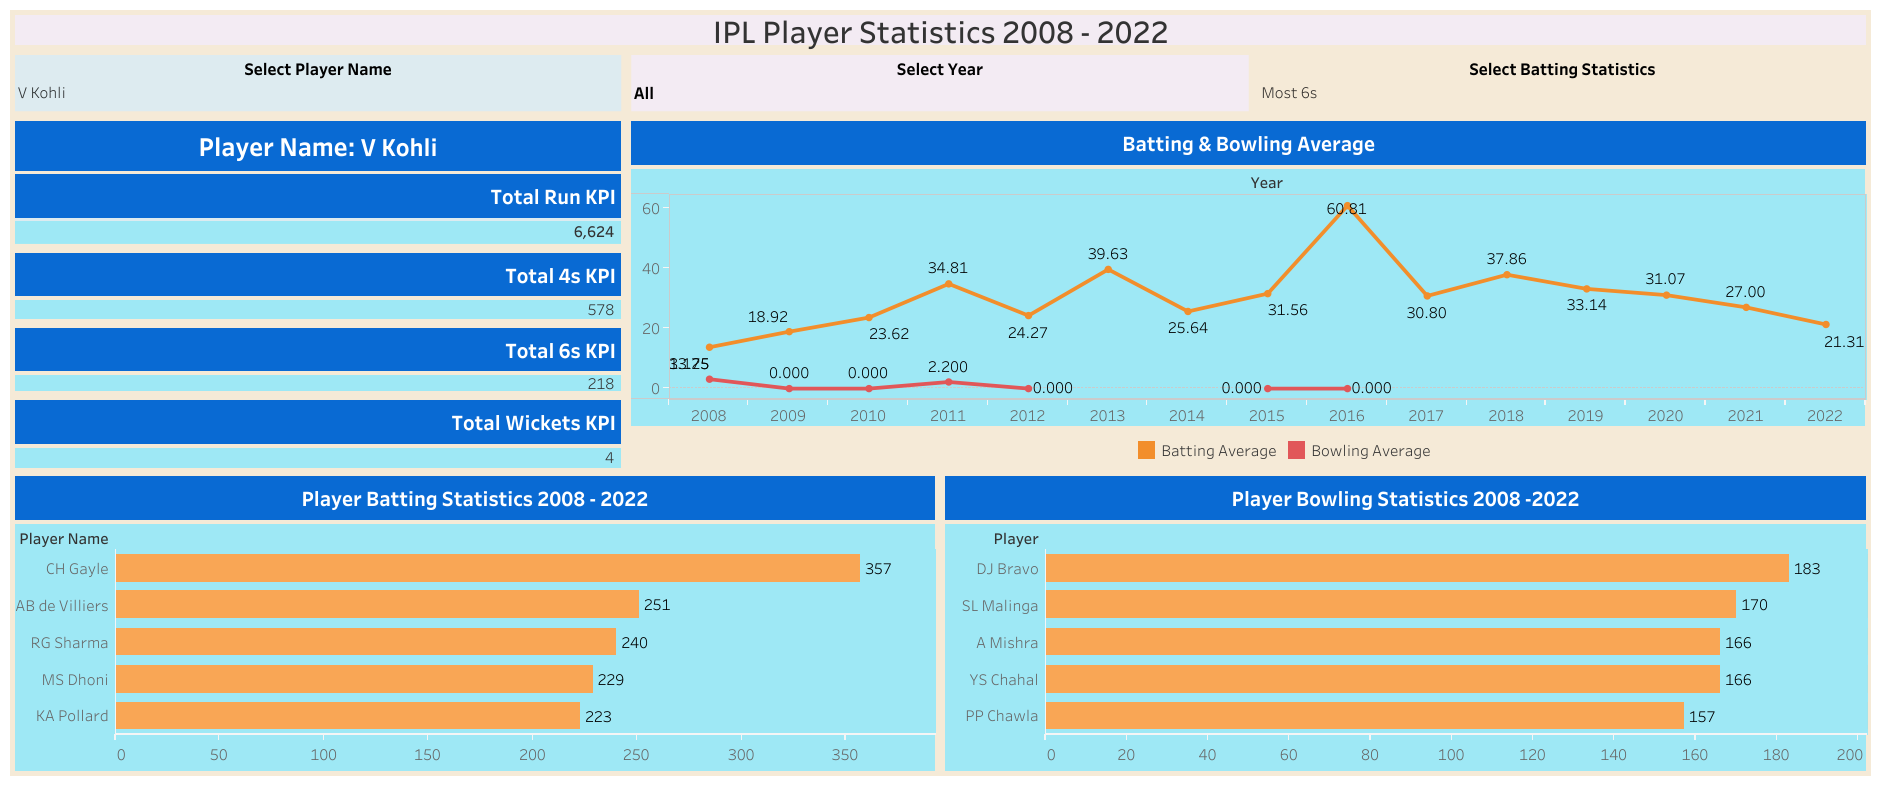

The page's visual inventory and layout, read from the dashboard file:
{"tool":"tableau","page":{"name":"IPL Player Statistics 2008 - 2022","canvas":[1000,1000],"units":"permille","ordinal":0},"visuals":[{"type":"title","box":[5.4,12.2,989.2,48.8]},{"type":"filter","title":"Player Name","param":"[federated.006kkls1axjqcs15texsb1skybl0].[none:Player:nk]","box":[5.4,61,327.7,83.8]},{"type":"filter","title":"Total Run KPI","param":"[federated.006kkls1axjqcs15texsb1skybl0].[yr:year:ok]","box":[333.1,61,333.7,83.8]},{"type":"parameter","param":"[Parameters].[Parameter 1]","box":[666.8,61,327.9,83.8]},{"type":"worksheet","title":"Player Name","mark":"Shape","rows":["Player"],"box":[5.4,144.8,327.6,67.6]},{"type":"worksheet","title":"Batting & Bowling Average","mark":"Line","rows":["Runs","Average"],"cols":["year"],"box":[333,144.8,661.6,404.5]},{"type":"worksheet","title":"Total Run KPI","mark":"Automatic","box":[5.4,212.4,327.6,101.2]},{"type":"worksheet","title":"Total 4s KPI","mark":"Automatic","box":[5.4,313.6,327.6,94.9]},{"type":"worksheet","title":"Total 6s KPI","mark":"Automatic","box":[5.4,408.4,327.6,92.1]},{"type":"worksheet","title":"Total Wickets KPI","mark":"Automatic","box":[5.4,500.5,327.6,98]},{"type":"blank","box":[333,549.3,266.7,49.1]},{"type":"legend","title":"Batting & Bowling Average","param":"[federated.006kkls1axjqcs15texsb1skybl0].[:Measure Names]","box":[599.7,549.3,394.9,49.1]},{"type":"worksheet","title":"Player Batting Statistics 2008 - 2022","mark":"Automatic","rows":["Player"],"cols":["Calculation_996632550619504720"],"box":[5.4,598.4,494.4,389.4]},{"type":"worksheet","title":"Player Bowling Statistics 2008 -2022","mark":"Automatic","rows":["name"],"cols":["Calculation_996632550628741201"],"box":[499.8,598.4,494.8,389.4]}]}

Visuals, with their boxes on the dashboard's canvas, which has no fixed pixel size, in thousandths of its width and height (x1, y1, x2, y2). These are canvas units, not pixel positions in the 1880x785 screenshot, which may show the page scaled, cropped or inside an application window:
title: box(5, 12, 995, 61)
"Player Name" filter: box(5, 61, 333, 145)
"Total Run KPI" filter: box(333, 61, 667, 145)
parameter: box(667, 61, 995, 145)
"Player Name" worksheet (Shape marks): box(5, 145, 333, 212)
"Batting & Bowling Average" worksheet (Line marks): box(333, 145, 995, 549)
"Total Run KPI" worksheet: box(5, 212, 333, 314)
"Total 4s KPI" worksheet: box(5, 314, 333, 408)
"Total 6s KPI" worksheet: box(5, 408, 333, 500)
"Total Wickets KPI" worksheet: box(5, 500, 333, 598)
blank: box(333, 549, 600, 598)
"Batting & Bowling Average" legend: box(600, 549, 995, 598)
"Player Batting Statistics 2008 - 2022" worksheet: box(5, 598, 500, 988)
"Player Bowling Statistics 2008 -2022" worksheet: box(500, 598, 995, 988)
